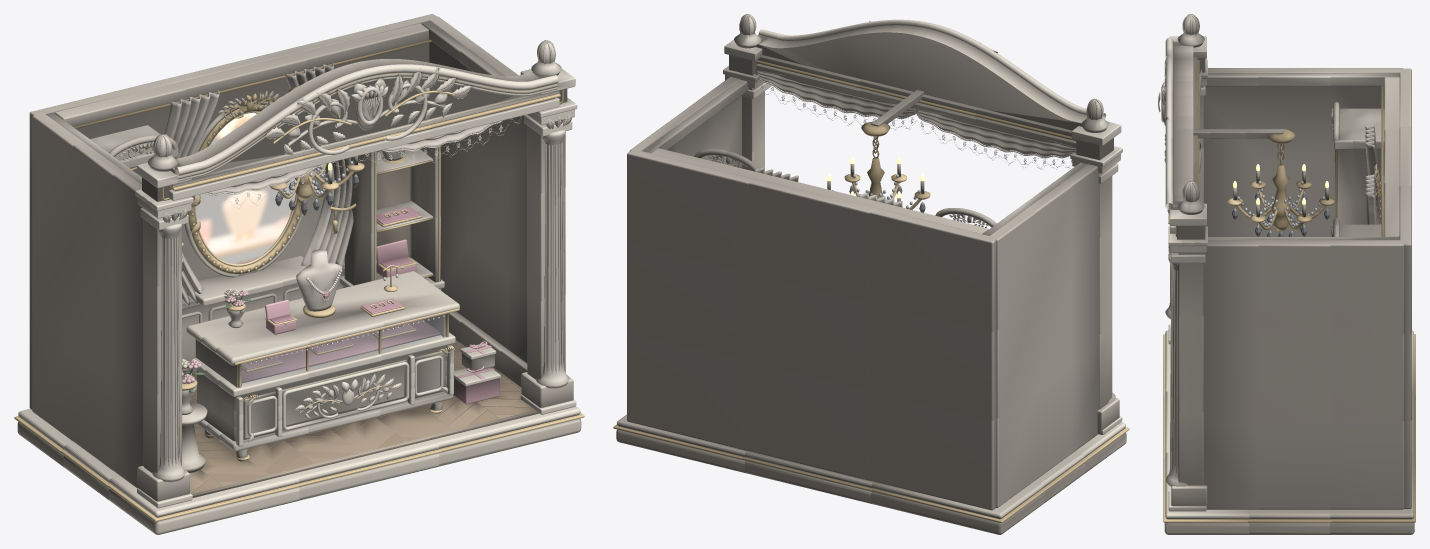
The model's file is Boutique-web.glb.
3 views of the same model, side by side, from view 1: azimuth 30°, elevation 25°; view 2: azimuth 150°, elevation 25°; view 3: azimuth 270°, elevation 25° (orthographic). The views are drawn at different scales.
Parts seen in each view (by area): view 1: Boutique_01, Boutique_06, Boutique_02, Boutique_04, Boutique_08, Boutique_03, Boutique_16, Boutique_10, Boutique_14, Boutique_07, Boutique_oak parquet 5, Boutique_oak parquet 6 (+8 smaller); view 2: Boutique_06, Boutique_01, Boutique_02, Boutique_08, Boutique_04, Boutique_09; view 3: Boutique_06, Boutique_01, Boutique_02, Boutique_04, Boutique_08, Boutique_15.
Boxes of the visible parts, box(x1,y1,x2,y2) form: Boutique_01: box(17, 23, 581, 534); Boutique_06: box(29, 14, 527, 487); Boutique_02: box(18, 21, 580, 517); Boutique_04: box(14, 39, 584, 521); Boutique_08: box(164, 62, 498, 305); Boutique_03: box(133, 73, 557, 497); Boutique_16: box(195, 112, 295, 264); Boutique_10: box(242, 206, 440, 383); Boutique_14: box(242, 315, 443, 385); Boutique_07: box(265, 239, 499, 404); Boutique_oak parquet 5: box(190, 383, 521, 493); Boutique_oak parquet 6: box(189, 347, 512, 476); Boutique_06: box(627, 77, 1099, 510); Boutique_01: box(616, 14, 1126, 534); Boutique_02: box(617, 14, 1125, 519); Boutique_08: box(755, 70, 1076, 207); Boutique_04: box(613, 60, 1129, 522); Boutique_09: box(759, 78, 1072, 197); Boutique_06: box(1203, 68, 1411, 509); Boutique_01: box(1164, 14, 1414, 534); Boutique_02: box(1158, 14, 1413, 519); Boutique_04: box(1163, 60, 1415, 522); Boutique_08: box(1199, 69, 1378, 224); Boutique_15: box(1232, 181, 1330, 236).
Size of the model in its own units: 6.16 by 5.68 by 3.58.
Materials: 27 (6 with a texture image).
